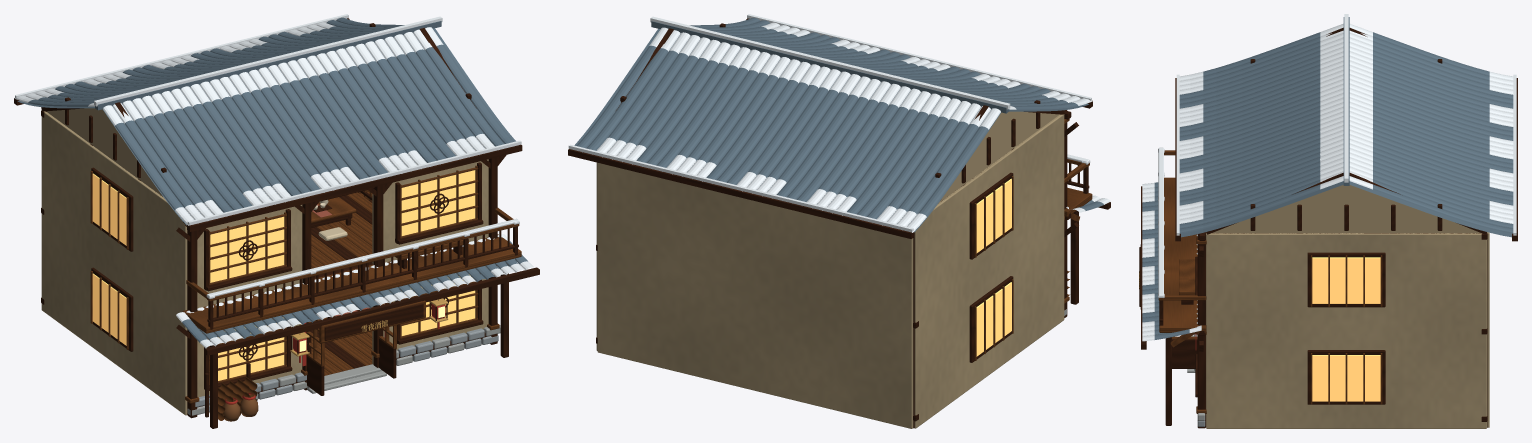
Rendered from tavern.glb.
3 views of the same model, side by side, from view 1: azimuth 30°, elevation 25°; view 2: azimuth 150°, elevation 25°; view 3: azimuth 270°, elevation 25° (orthographic). The views are drawn at different scales.
Parts seen in each view (by area): view 1: Tavern_Blue_grey_roof_tiles, Tavern_Warm_lime_plaster, Tavern_Tavern_walnut, Tavern_Tavern_honey_wood, Tavern_Snow, Tavern_Amber_window_panes, Tavern_Alternate_stone, Tavern_Foundation_stone, Tavern_Dark_glazed_wine_jars, Tavern_Warm_brass; view 2: Tavern_Warm_lime_plaster, Tavern_Blue_grey_roof_tiles, Tavern_Snow, Tavern_Tavern_walnut, Tavern_Amber_window_panes, Tavern_Tavern_honey_wood; view 3: Tavern_Warm_lime_plaster, Tavern_Blue_grey_roof_tiles, Tavern_Snow, Tavern_Tavern_walnut, Tavern_Amber_window_panes, Tavern_Tavern_honey_wood.
Boxes of the visible parts, x1=… form: Tavern_Blue_grey_roof_tiles: x1=17, y1=17, x2=527, y2=342; Tavern_Warm_lime_plaster: x1=41, y1=108, x2=488, y2=415; Tavern_Tavern_walnut: x1=14, y1=18, x2=539, y2=428; Tavern_Tavern_honey_wood: x1=90, y1=165, x2=521, y2=420; Tavern_Snow: x1=14, y1=14, x2=534, y2=348; Tavern_Amber_window_panes: x1=92, y1=170, x2=475, y2=380; Tavern_Alternate_stone: x1=187, y1=325, x2=500, y2=415; Tavern_Foundation_stone: x1=195, y1=328, x2=498, y2=411; Tavern_Dark_glazed_wine_jars: x1=222, y1=396, x2=258, y2=421; Tavern_Warm_brass: x1=290, y1=298, x2=448, y2=356; Tavern_Warm_lime_plaster: x1=596, y1=111, x2=1064, y2=428; Tavern_Blue_grey_roof_tiles: x1=574, y1=17, x2=1103, y2=232; Tavern_Snow: x1=568, y1=14, x2=1110, y2=232; Tavern_Tavern_walnut: x1=568, y1=18, x2=1110, y2=428; Tavern_Amber_window_panes: x1=976, y1=178, x2=1011, y2=356; Tavern_Tavern_honey_wood: x1=974, y1=119, x2=1092, y2=360; Tavern_Warm_lime_plaster: x1=1206, y1=185, x2=1489, y2=428; Tavern_Blue_grey_roof_tiles: x1=1142, y1=17, x2=1513, y2=339; Tavern_Snow: x1=1142, y1=14, x2=1516, y2=341; Tavern_Tavern_walnut: x1=1139, y1=27, x2=1517, y2=428; Tavern_Amber_window_panes: x1=1312, y1=257, x2=1380, y2=401; Tavern_Tavern_honey_wood: x1=1140, y1=150, x2=1382, y2=413.
Size of the model in its own units: 12.5 by 9.17 by 12.15.
Materials: 16 (3 with a texture image).
